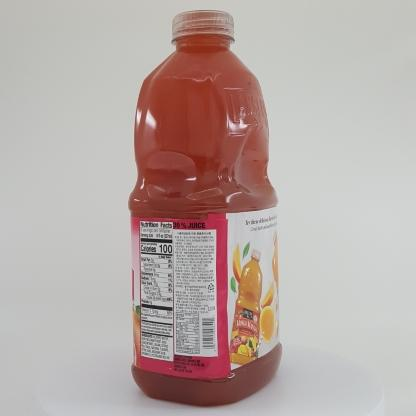-----------1-89L: (128, 10, 282, 406)
